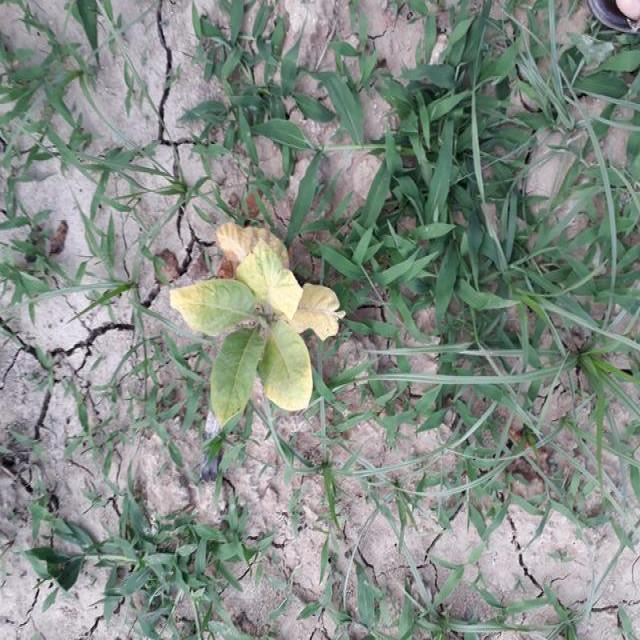crop: (178, 223, 338, 428)
